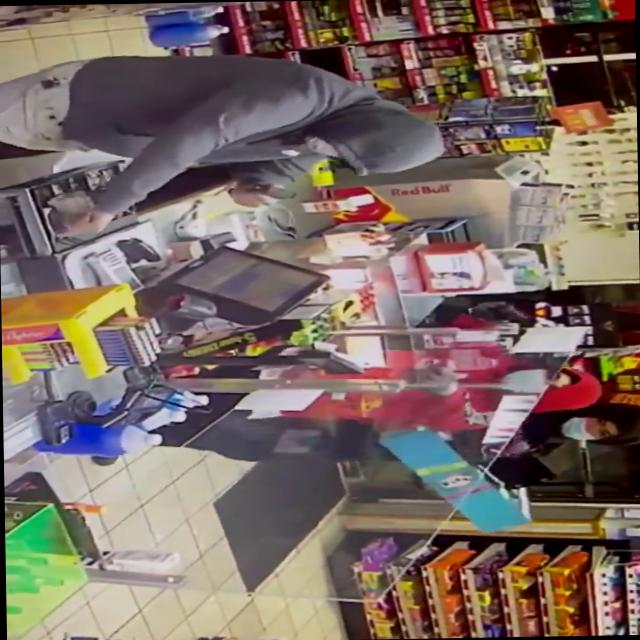handgun: (230, 176, 306, 211)
